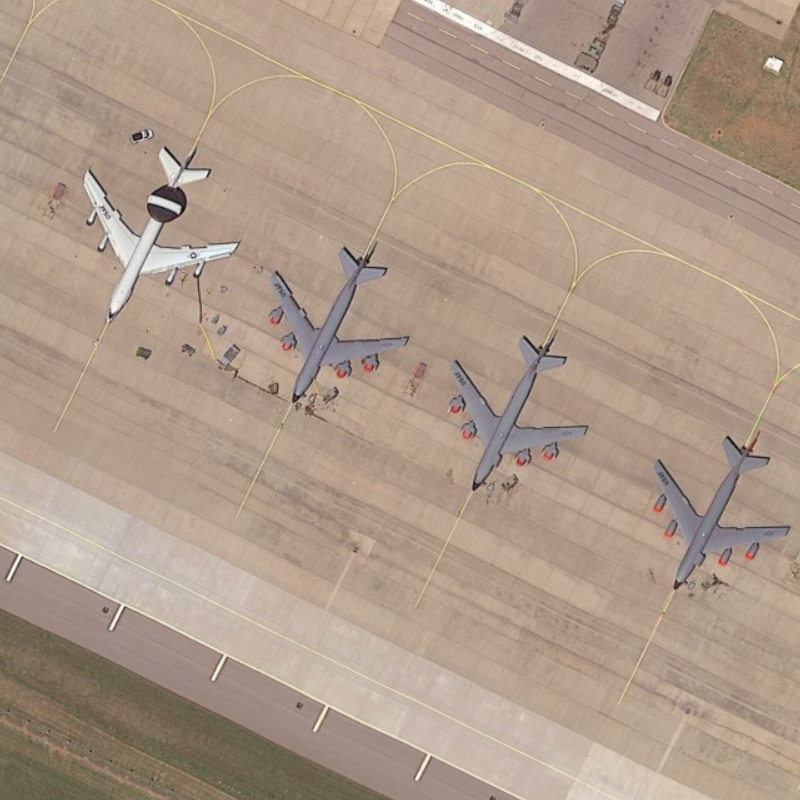A14: (255, 240, 417, 411), (437, 328, 591, 502), (645, 428, 794, 598)
A7: (70, 137, 243, 336)
